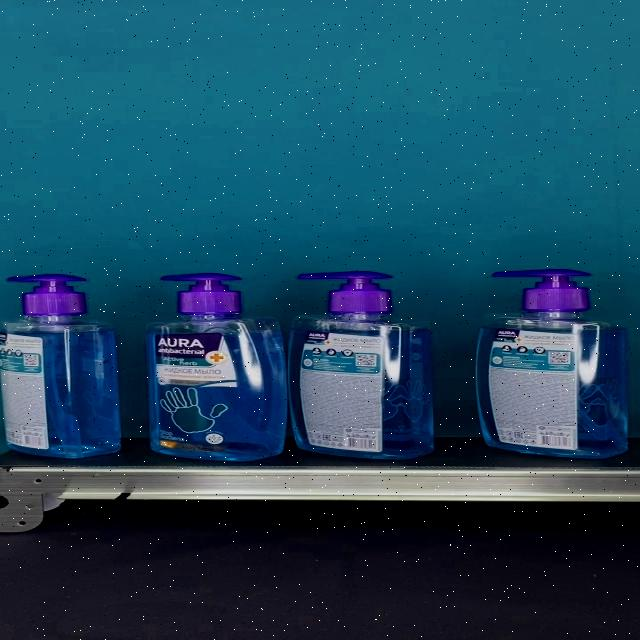Bottle: (475, 270, 629, 458), (288, 271, 435, 460), (146, 273, 287, 461), (0, 274, 121, 458)
Cap: (492, 270, 592, 313), (297, 271, 393, 314), (160, 273, 242, 314), (7, 275, 89, 315)
